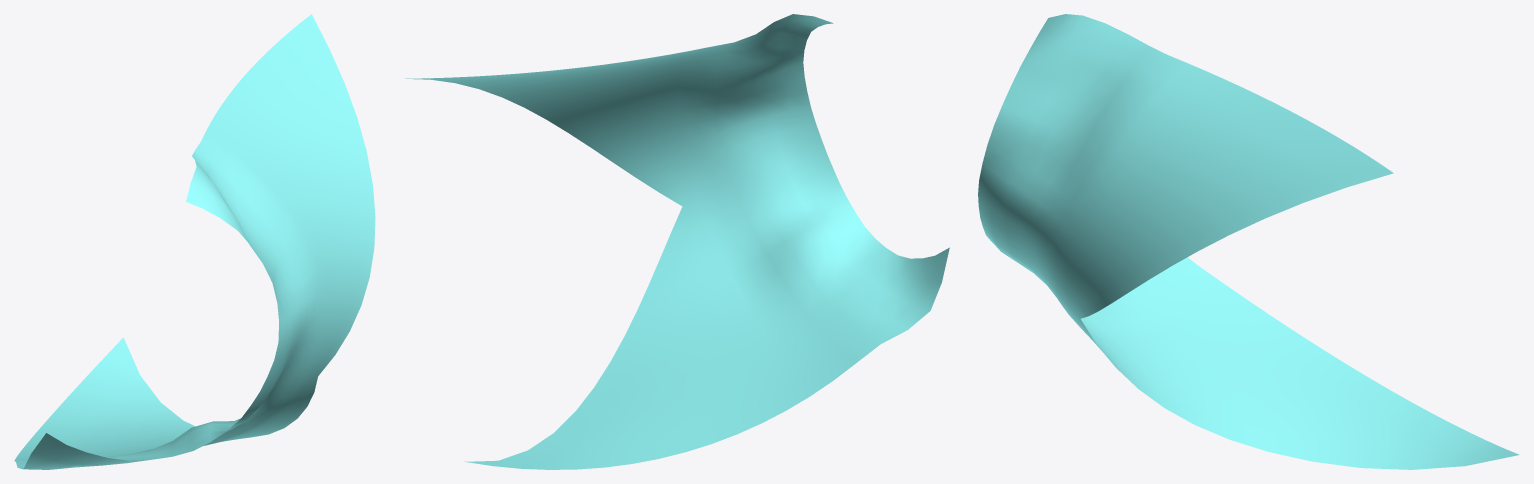
The model's file is Unit_Cloth_Shoulder.FBX.
The picture shows the model from 3 angles, left to right: view 1: azimuth 30°, elevation 25°; view 2: azimuth 150°, elevation 25°; view 3: azimuth 270°, elevation 25°; orthographic projection. The views are drawn at different scales.
Parts seen in each view (by area): view 1: Unit_Cloth_Shoulder; view 2: Unit_Cloth_Shoulder; view 3: Unit_Cloth_Shoulder.
Part boxes in pixels (x1=…): Unit_Cloth_Shoulder: x1=14, y1=14, x2=375, y2=469; Unit_Cloth_Shoulder: x1=405, y1=14, x2=949, y2=469; Unit_Cloth_Shoulder: x1=978, y1=14, x2=1519, y2=469.
Size of the model in its own units: 51.32 by 43.7 by 54.74.
